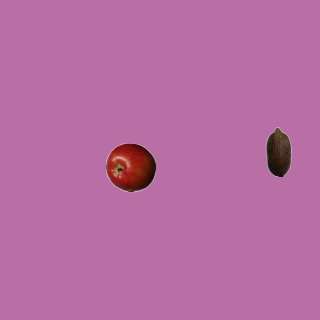Apple Braeburn: (105, 142, 155, 192)
Nut Pecan: (253, 126, 303, 176)
